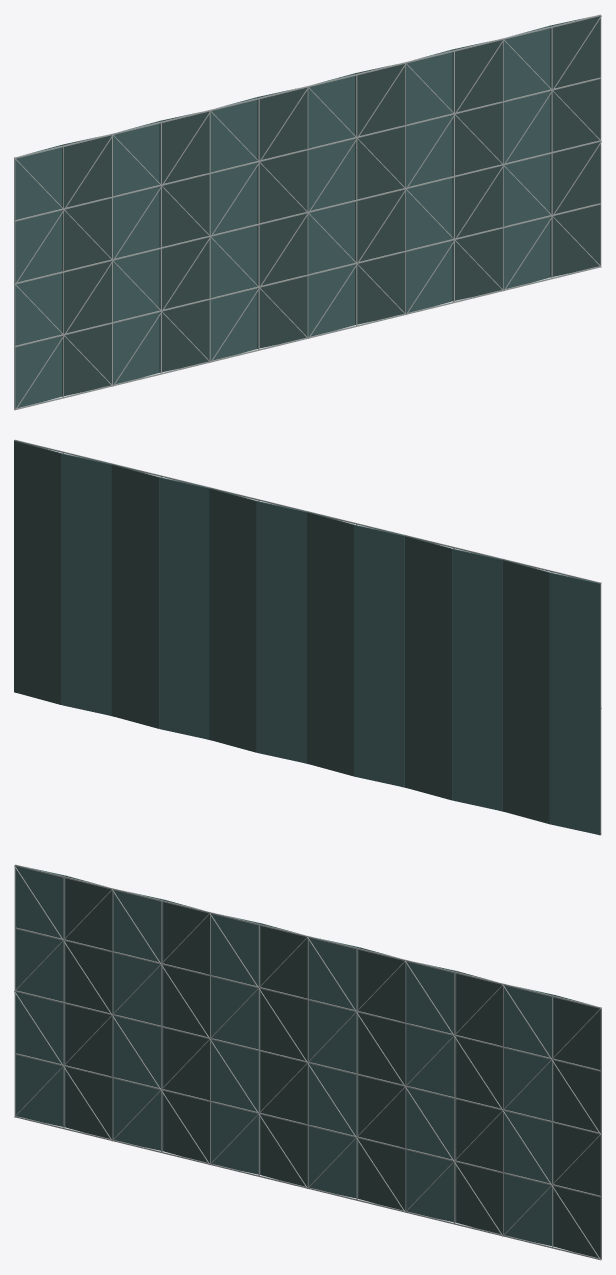
Rendered from knight-campus1-south-detail-2026-11-04.glb.
3 views of the same model, one above another, from view 1: azimuth 30°, elevation 25°; view 2: azimuth 150°, elevation 25°; view 3: azimuth 330°, elevation 25° (orthographic).
Visible parts, largest first — view 1: exterior-detail-building; view 2: exterior-detail-building; view 3: exterior-detail-building.
Part boxes in pixels (<box>): exterior-detail-building: <box>14,14,601,410</box>; exterior-detail-building: <box>14,439,601,835</box>; exterior-detail-building: <box>14,864,601,1260</box>.
Bounding box in the file's own units: 61.09 × 25.12 × 0.5513.
